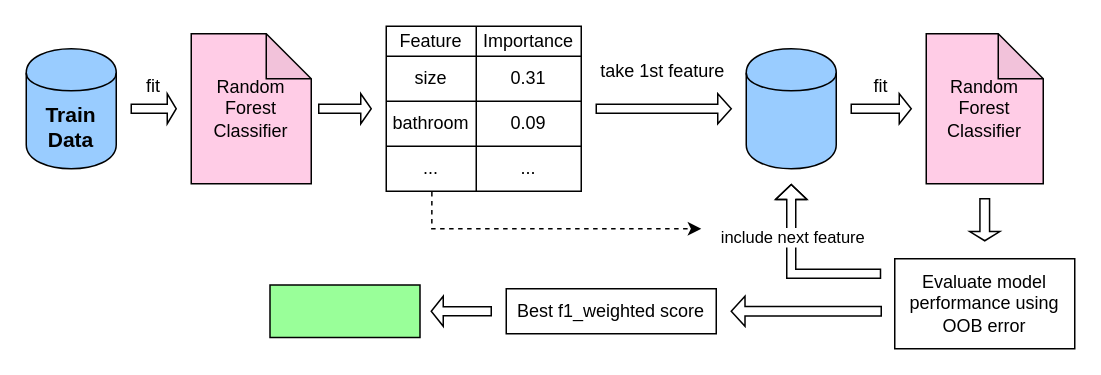
The diagram is 1101 pixels wide and 375 high, and some of its shapes have lost their labels. Here are the shapes that lost their labels. From the top down, the centre of each, then its label:
the point at 790,108: Train Subset
the point at 344,311: Best Features
